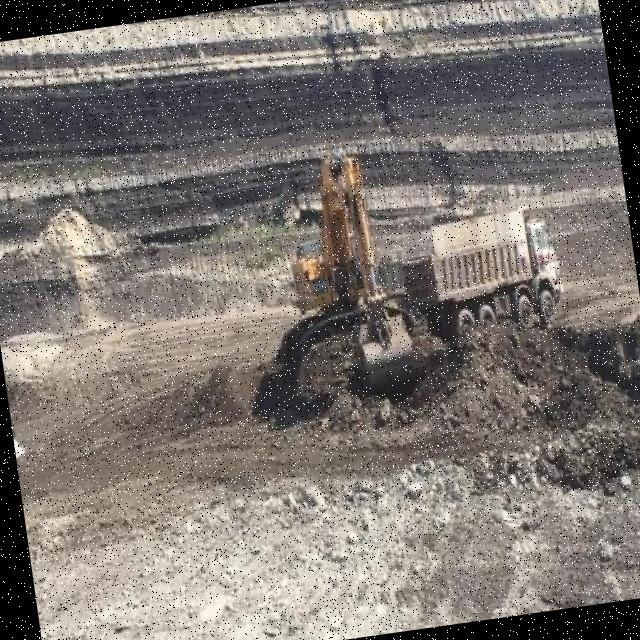Dump Truck: (394, 202, 568, 341)
Excavator: (274, 146, 422, 400)
